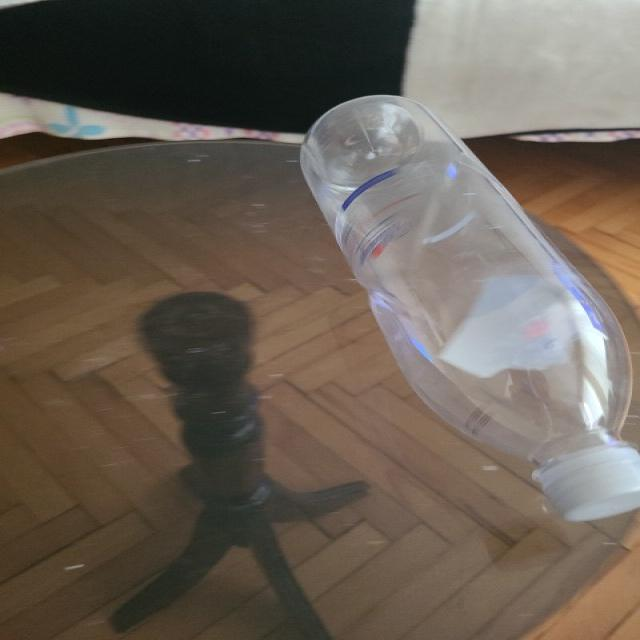plastic_bottle: (298, 94, 640, 520)
